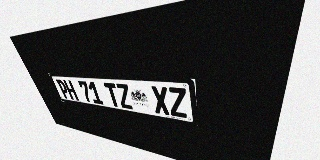1: (86, 81, 104, 105)
7: (77, 81, 94, 103)
H: (63, 80, 79, 101)
P: (56, 79, 71, 99)
T: (103, 83, 122, 107)
X: (150, 86, 171, 115)
Z: (167, 87, 188, 118), (115, 83, 134, 109)
